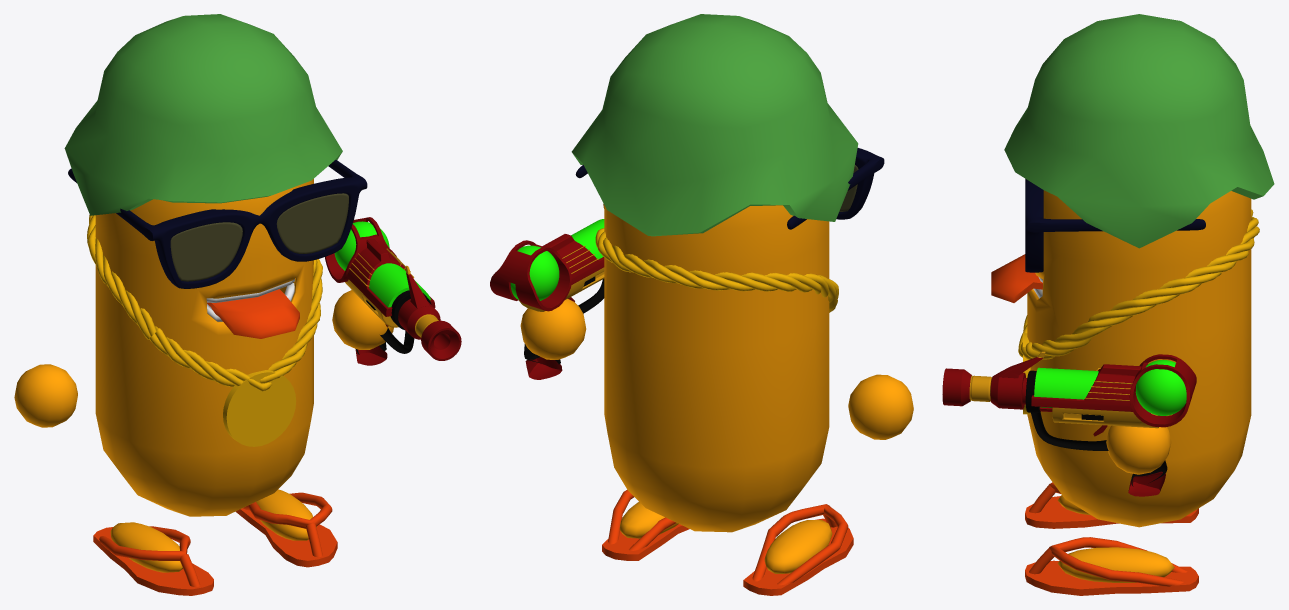
Rendered from coolbean.glb.
3 views of the same model, side by side, from view 1: azimuth 30°, elevation 25°; view 2: azimuth 150°, elevation 25°; view 3: azimuth 270°, elevation 25° (orthographic). The views are drawn at different scales.
Visible parts, largest first — view 1: Bean, Cube.004, Cylinder.001, Plane.001, Cube.002, Cube.003, Cube.007, Rope, Cylinder, Cube.008, Cube, Cube.005; view 2: Bean, Cube.004, Cylinder.001, Cube.007, Plane.001, Rope, Cube.008, Cube.002; view 3: Bean, Cube.004, Cylinder.001, Plane.001, Rope, Cube.008, Cube.007, Cube.002, Cube.
Part boxes in pixels (x1,y1,x2,y2): Bean: [95, 179, 313, 516]; Cube.004: [64, 14, 342, 215]; Cylinder.001: [325, 217, 461, 365]; Plane.001: [93, 492, 337, 595]; Cube.002: [68, 160, 367, 288]; Cube.003: [170, 193, 348, 281]; Cube.007: [14, 290, 393, 427]; Rope: [87, 215, 322, 391]; Cylinder: [223, 370, 296, 446]; Cube.008: [110, 489, 316, 572]; Cube: [207, 289, 299, 338]; Cube.005: [206, 279, 294, 321]; Bean: [604, 205, 829, 532]; Cube.004: [571, 14, 858, 236]; Cylinder.001: [490, 204, 604, 379]; Cube.007: [520, 299, 913, 439]; Plane.001: [602, 490, 853, 595]; Rope: [595, 228, 838, 312]; Cube.008: [619, 502, 832, 573]; Cube.002: [575, 148, 884, 229]; Bean: [1027, 190, 1251, 527]; Cube.004: [1004, 14, 1274, 248]; Cylinder.001: [942, 351, 1196, 496]; Plane.001: [1025, 482, 1198, 595]; Rope: [1018, 209, 1259, 361]; Cube.008: [1057, 495, 1174, 582]; Cube.007: [1106, 425, 1171, 474]; Cube.002: [1025, 179, 1205, 272]; Cube: [991, 254, 1042, 302].
Bounding box in the file's own units: 1.45 × 1.86 × 1.07.
